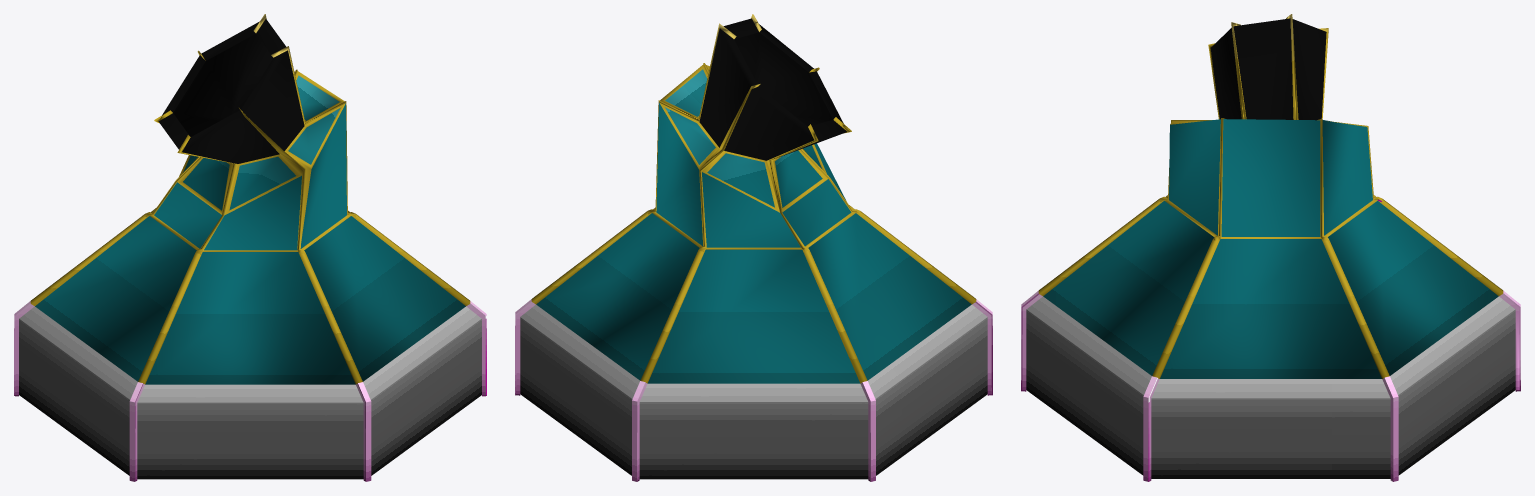
Rendered from BallistaTower.fbx.
3 renders of one model, left to right at view 1: azimuth 30°, elevation 25°; view 2: azimuth 150°, elevation 25°; view 3: azimuth 270°, elevation 25°, orthographic. The views are drawn at different scales.
Parts seen in each view (by area): view 1: Hexagon.002; view 2: Hexagon.002; view 3: Hexagon.002.
Part boxes in pixels (x1,y1,x2,y2): Hexagon.002: (14,14,486,481); Hexagon.002: (515,14,992,481); Hexagon.002: (1021,14,1520,481).
Bounding box in the file's own units: 92.7 × 91.31 × 106.
